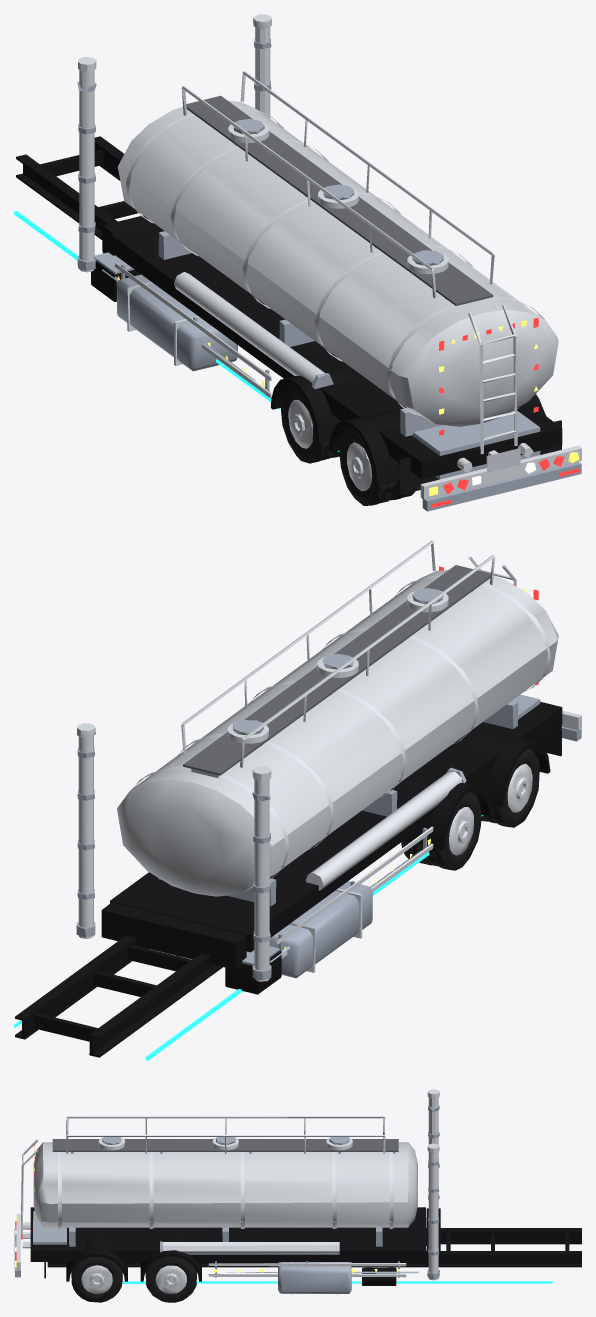
File: body_tanker_lod1.glb
3 views of the same model, one above another, from view 1: azimuth 30°, elevation 25°; view 2: azimuth 150°, elevation 25°; view 3: azimuth 270°, elevation 25° (orthographic). The views are drawn at different scales.
Parts seen in each view (by area): view 1: lod1_tank_shell, lod1frame_plastic_black, lod1_chrome, lod1_steel, lod1_diamond, lod1frame_steel, lod1_rubber_tire, lod1_lamp_red, lod1_rubber, lod1_plastic_black, lod1frame_lamp_cyan; view 2: lod1_tank_shell, lod1frame_plastic_black, lod1_chrome, lod1_diamond, lod1_plastic_black, lod1_steel, lod1frame_steel, lod1_rubber_tire, lod1frame_lamp_cyan; view 3: lod1_tank_shell, lod1frame_plastic_black, lod1_chrome, lod1_diamond, lod1_rubber_tire, lod1frame_steel, lod1_steel, lod1frame_lamp_cyan, lod1_plastic_black.
Boxes of the visible parts, bbox=[...] form: lod1_tank_shell: bbox=[117, 100, 558, 426]; lod1frame_plastic_black: bbox=[16, 136, 562, 485]; lod1_chrome: bbox=[78, 14, 581, 499]; lod1_steel: bbox=[77, 38, 581, 511]; lod1_diamond: bbox=[186, 95, 493, 305]; lod1frame_steel: bbox=[94, 252, 255, 380]; lod1_rubber_tire: bbox=[281, 384, 414, 505]; lod1_lamp_red: bbox=[431, 317, 579, 507]; lod1_rubber: bbox=[399, 420, 561, 494]; lod1_plastic_black: bbox=[102, 215, 154, 255]; lod1frame_lamp_cyan: bbox=[14, 211, 339, 451]; lod1_tank_shell: bbox=[117, 569, 558, 896]; lod1frame_plastic_black: bbox=[15, 702, 562, 1057]; lod1_chrome: bbox=[77, 540, 581, 981]; lod1_diamond: bbox=[183, 565, 490, 775]; lod1_plastic_black: bbox=[101, 902, 246, 969]; lod1_steel: bbox=[76, 588, 581, 980]; lod1frame_steel: bbox=[176, 850, 421, 978]; lod1_rubber_tire: bbox=[401, 749, 539, 870]; lod1frame_lamp_cyan: bbox=[14, 815, 483, 1060]; lod1_tank_shell: bbox=[33, 1142, 417, 1227]; lod1frame_plastic_black: bbox=[30, 1207, 581, 1285]; lod1_chrome: bbox=[16, 1089, 439, 1294]; lod1_diamond: bbox=[52, 1139, 398, 1151]; lod1_rubber_tire: bbox=[71, 1256, 196, 1302]; lod1frame_steel: bbox=[226, 1217, 426, 1293]; lod1_steel: bbox=[14, 1105, 439, 1279]; lod1frame_lamp_cyan: bbox=[122, 1281, 552, 1283]; lod1_plastic_black: bbox=[426, 1208, 440, 1267].
Bounding box in the file's own units: 2.87 × 3.55 × 11.48.
13 materials, 2 textured.
